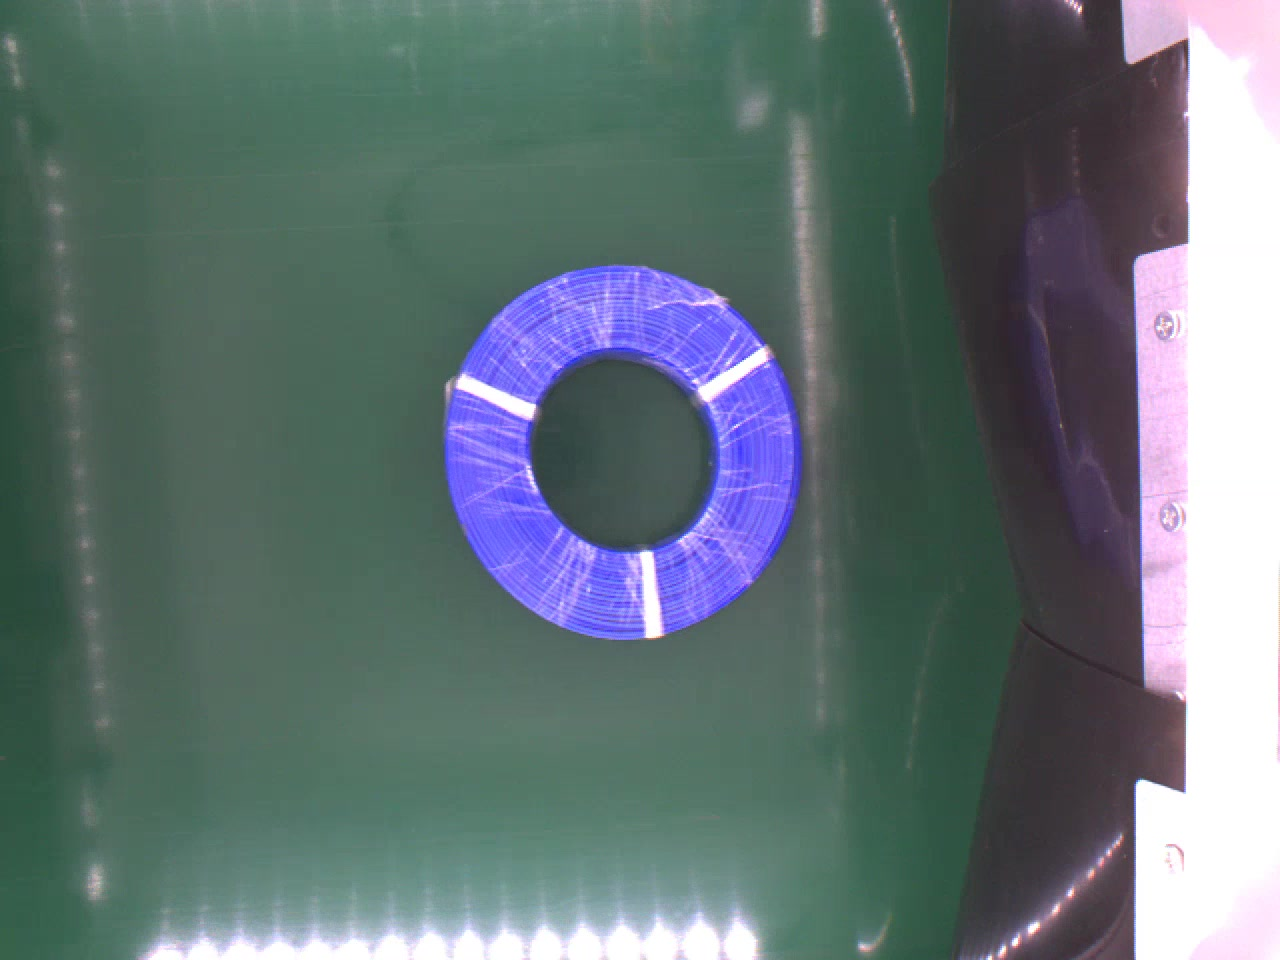blue: (415, 259, 797, 643)
